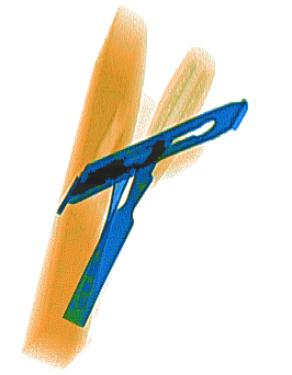knife: (67, 98, 246, 204)
